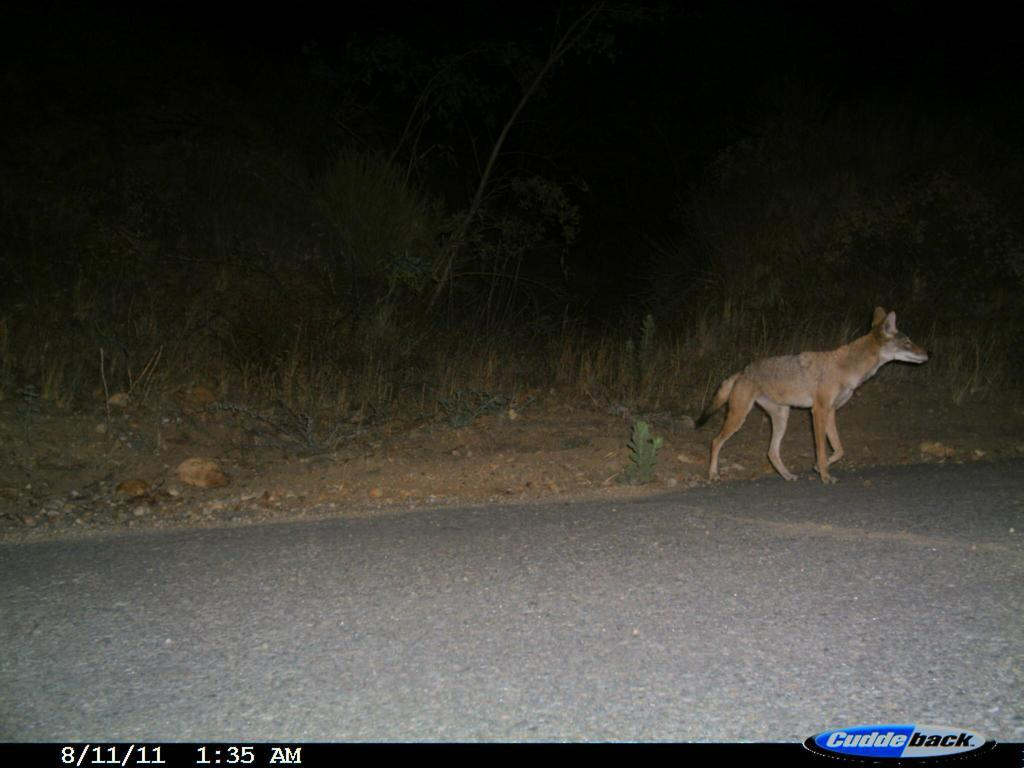coyote: (676, 300, 935, 482)
